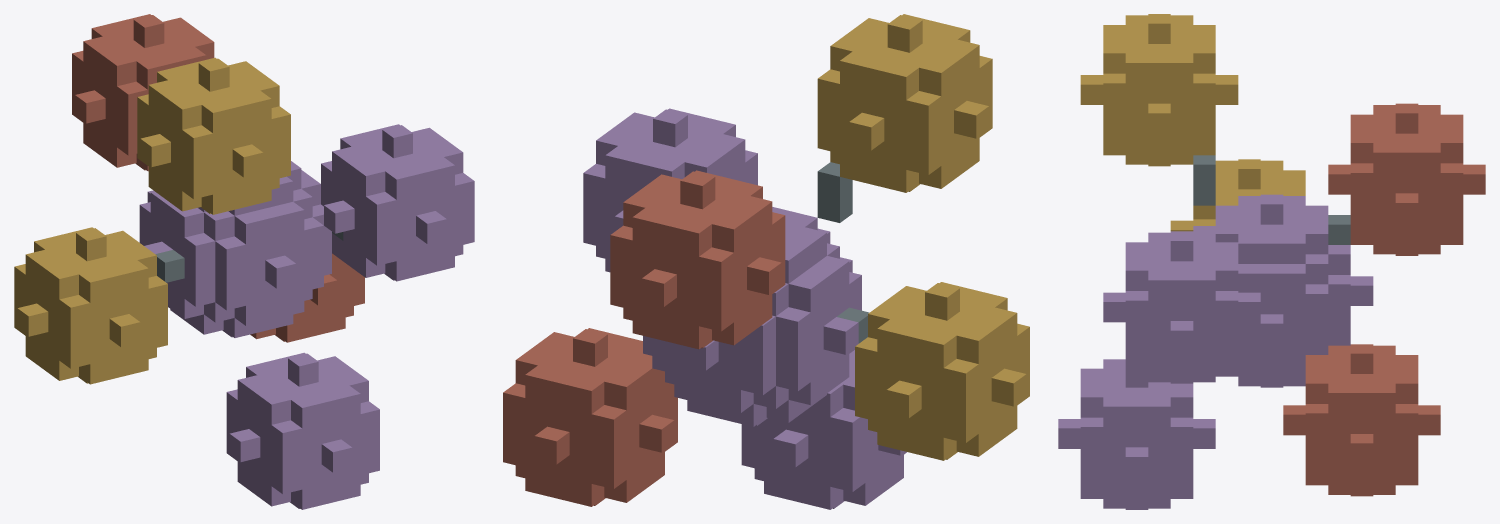
Rendered from crypto-04.glb.
The picture shows the model from 3 angles, left to right: view 1: azimuth 30°, elevation 25°; view 2: azimuth 150°, elevation 25°; view 3: azimuth 270°, elevation 25°; orthographic projection. The views are drawn at different scales.
Visible parts, largest first — view 1: Chain monument; view 2: Chain monument; view 3: Chain monument.
Part boxes in pixels (x1,y1,x2,y2): Chain monument: (14, 14, 474, 509); Chain monument: (503, 14, 1029, 509); Chain monument: (1058, 14, 1485, 509).
Bounding box in the file's own units: 1.68 × 1.76 × 1.52.
